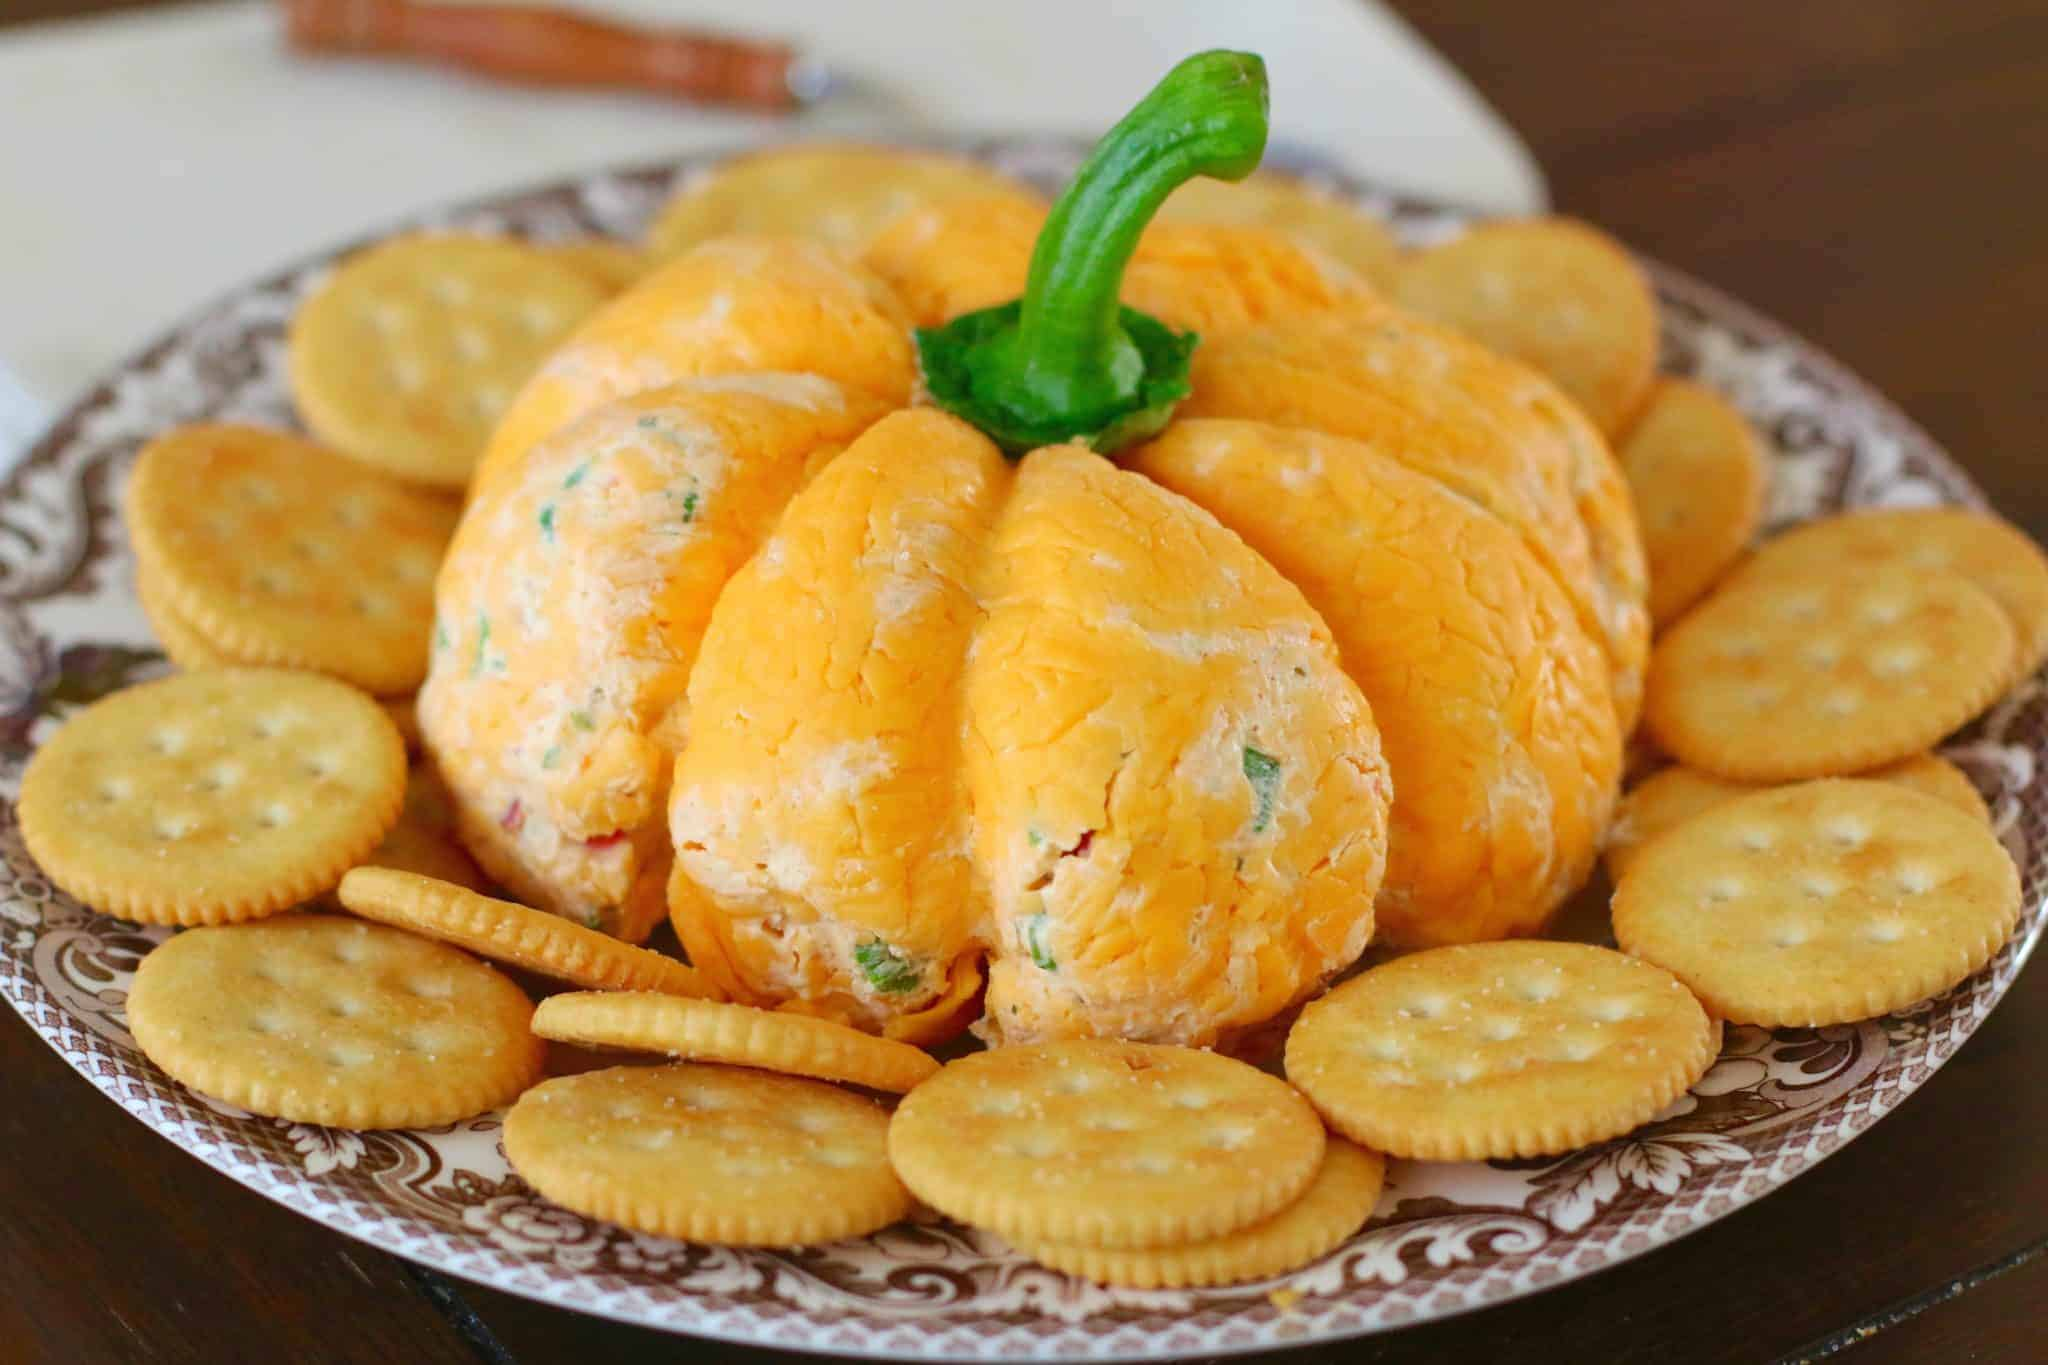cheese: (443, 315, 866, 774), (912, 558, 1239, 992), (1338, 279, 1581, 696)
